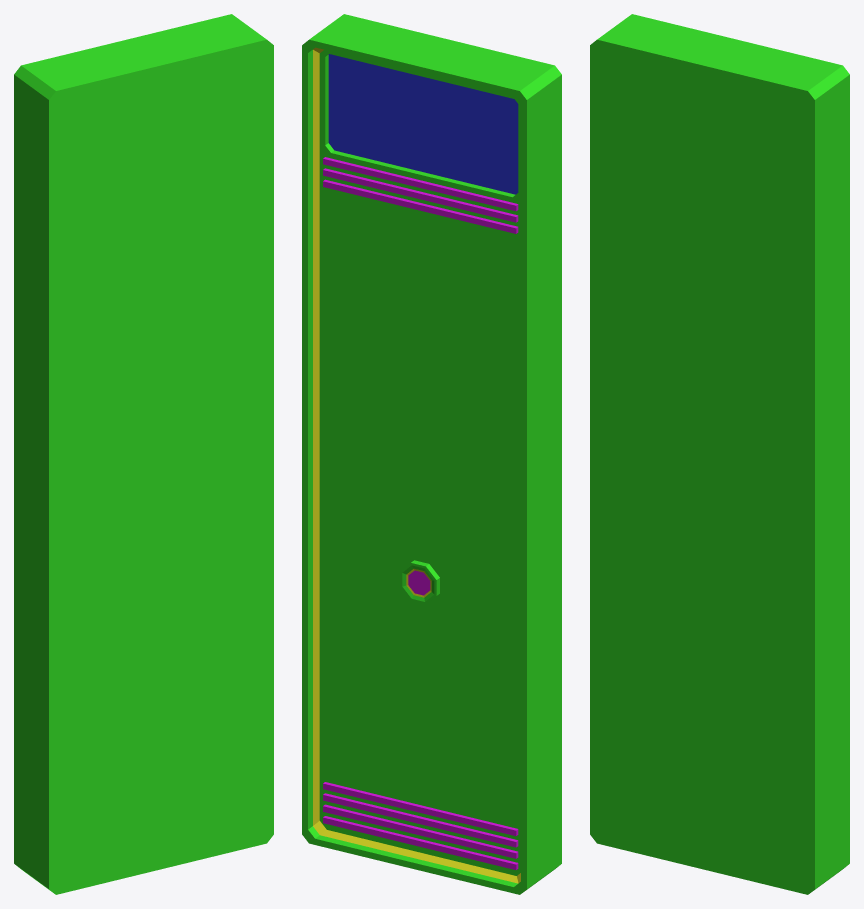
File: Button_Panel_01.fbx
The picture shows the model from 3 angles, left to right: view 1: azimuth 30°, elevation 25°; view 2: azimuth 150°, elevation 25°; view 3: azimuth 330°, elevation 25°; orthographic projection.
Visible parts, largest first — view 1: Button_Panel_01; view 2: Button_Panel_01, Button_Panel_01_Button; view 3: Button_Panel_01.
Boxes of the visible parts, x1=… form: Button_Panel_01: x1=14, y1=14, x2=273, y2=894; Button_Panel_01: x1=302, y1=14, x2=561, y2=894; Button_Panel_01_Button: x1=400, y1=560, x2=439, y2=604; Button_Panel_01: x1=590, y1=14, x2=849, y2=894.
Size of the model in its own units: 20.88 by 71.34 by 5.64.
